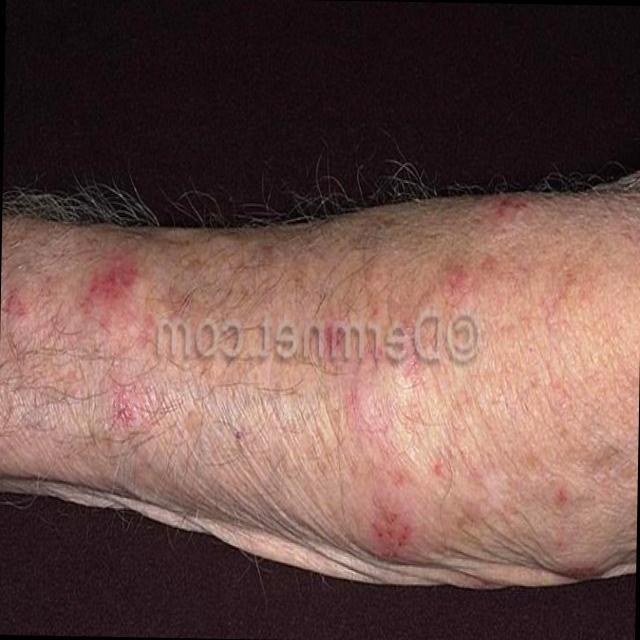Eczema: (0, 229, 538, 550)
